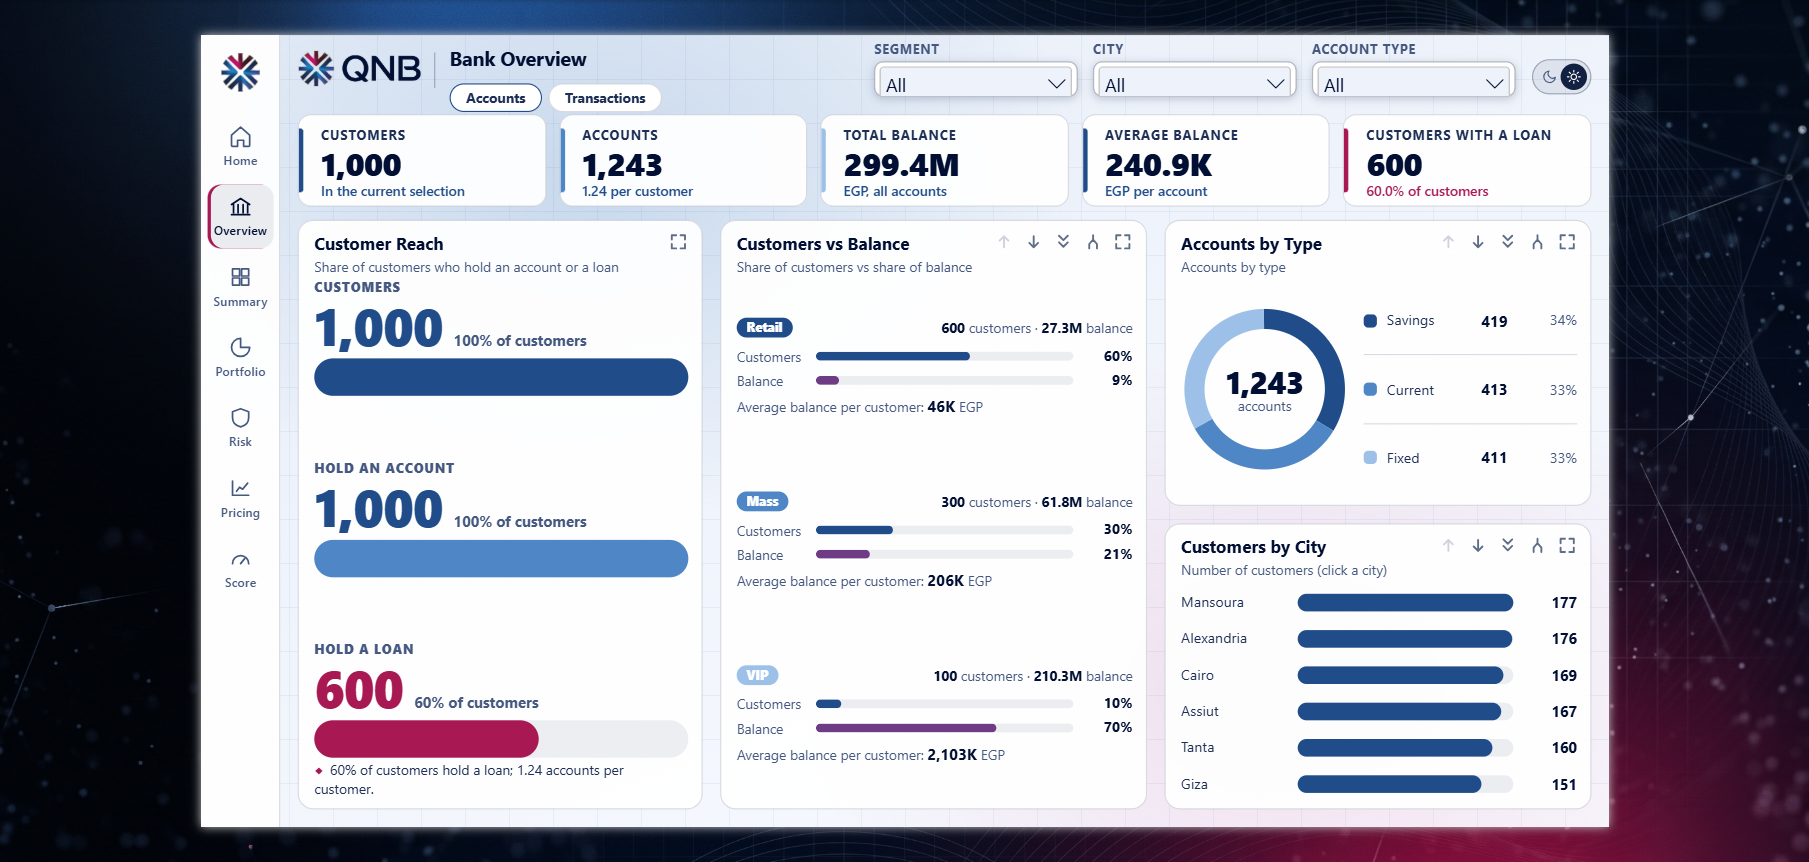

What the dashboard file says about the page in this screenshot:
{"tool":"powerbi","page":{"name":"Overview Page","canvas":[1280,720],"ordinal":1},"visuals":[{"type":"htmlContent443BE3AD55E043BF878BED274D3A6855","fields":{"content":["HTML Visuals.page_02_overview"]},"box":[0,0,1280,720],"z":0},{"type":"slicer","fields":{"Values":["dim_customer.segment"]},"box":[612,24,185,32],"z":101},{"type":"slicer","fields":{"Values":["dim_customer.city"]},"box":[811,24,185,32],"z":102},{"type":"slicer","fields":{"Values":["dim_account_type.account_type"]},"box":[1010,24,185,32],"z":103}]}

Visuals, with their boxes on the page's 1280x720 design canvas (x1, y1, x2, y2). These are canvas units, not pixel positions in the 1809x862 screenshot, which may show the page scaled, cropped or inside an application window:
htmlContent443BE3AD55E043BF878BED274D3A6855 - HTML Visuals.page_02_overview: (left=0, top=0, right=1280, bottom=720)
slicer - dim_customer.segment: (left=612, top=24, right=797, bottom=56)
slicer - dim_customer.city: (left=811, top=24, right=996, bottom=56)
slicer - dim_account_type.account_type: (left=1010, top=24, right=1195, bottom=56)
